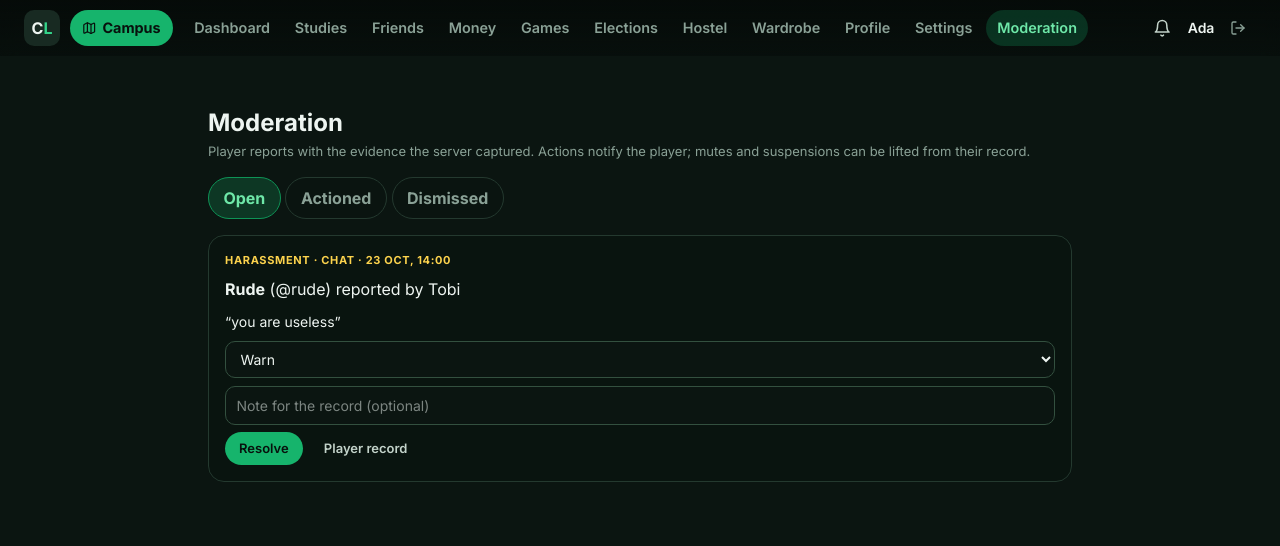
Scenario: moderation › moderators see evidence and mute a player for a set time
Expected: the text "“you are useless”" is shown, [225,313,341,330]
Select "Mute chat" in the dropdown named "Action": (640, 360) [225,341,1055,378]
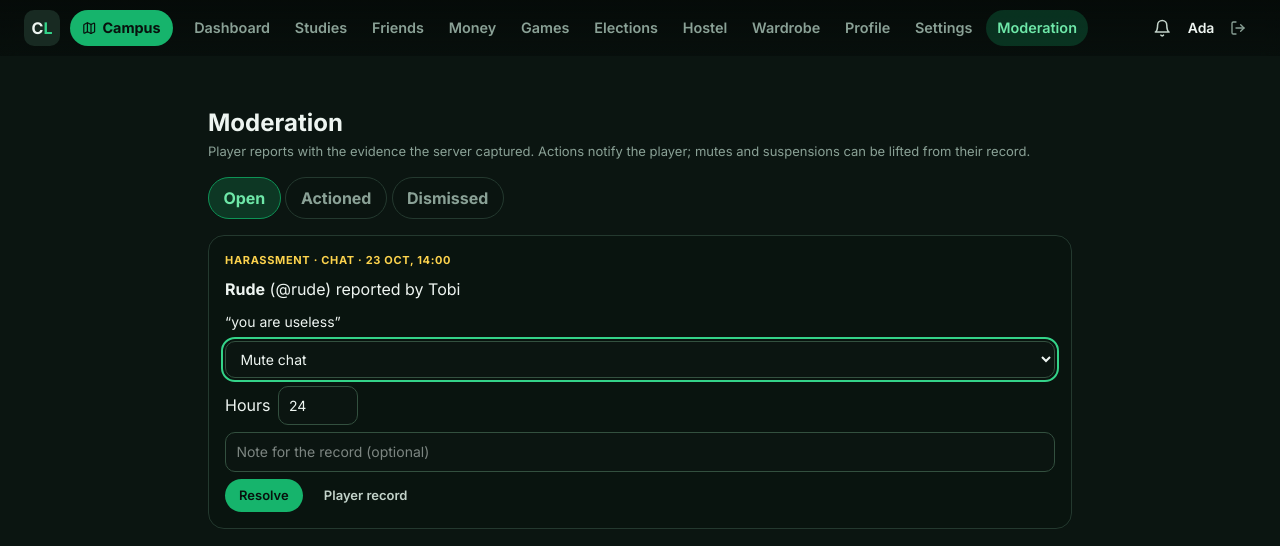
Replace the text in the number field with "48": (318, 405) [278,386,358,425]
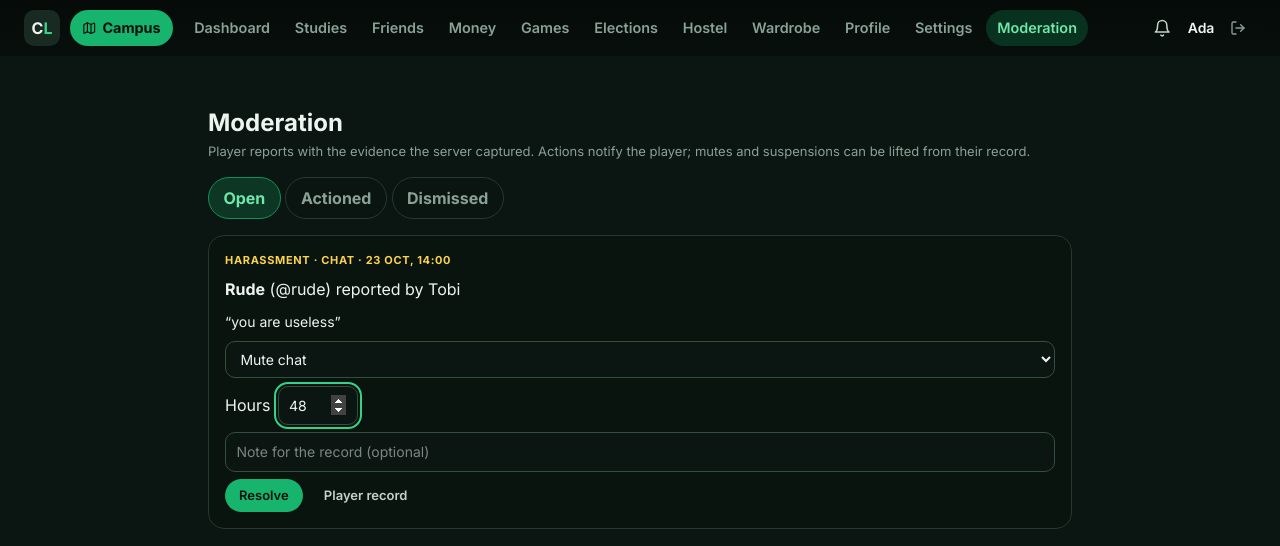
Click the button "Resolve": click(264, 495) [225,479,303,512]
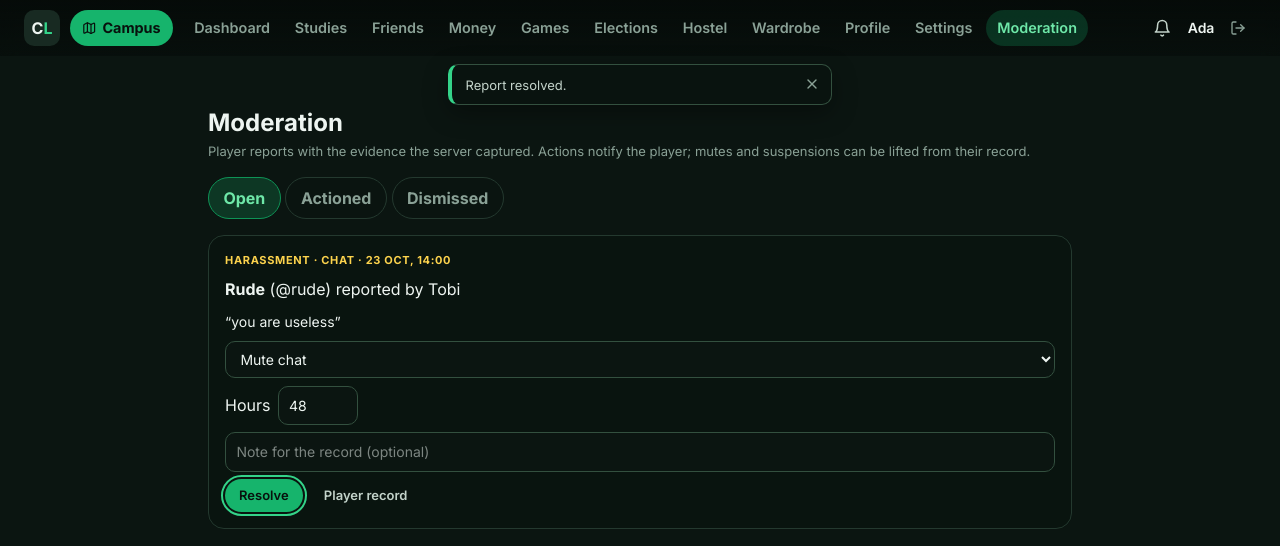
Expected: the text "Report resolved." is shown, [466,77,567,93]
